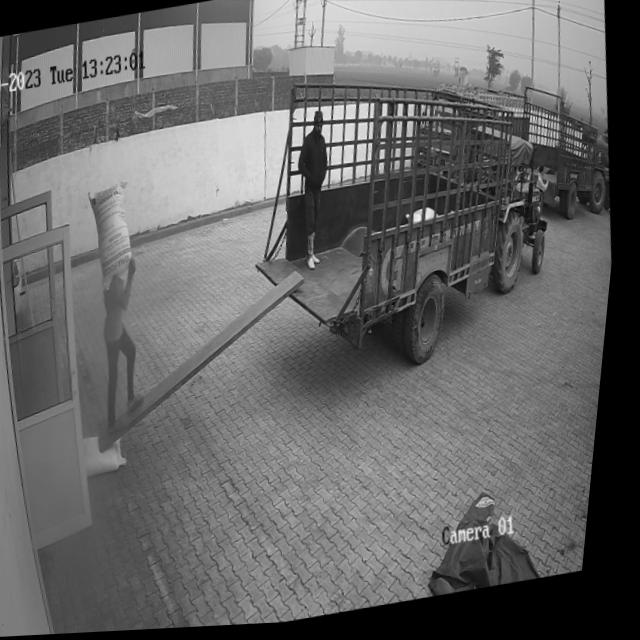sack: (84, 181, 145, 285), (88, 430, 139, 479)
